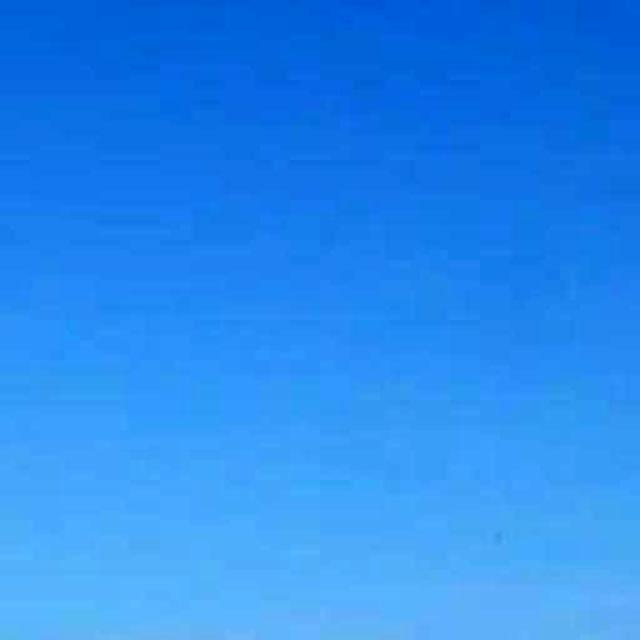drone: (466, 495, 536, 579)
